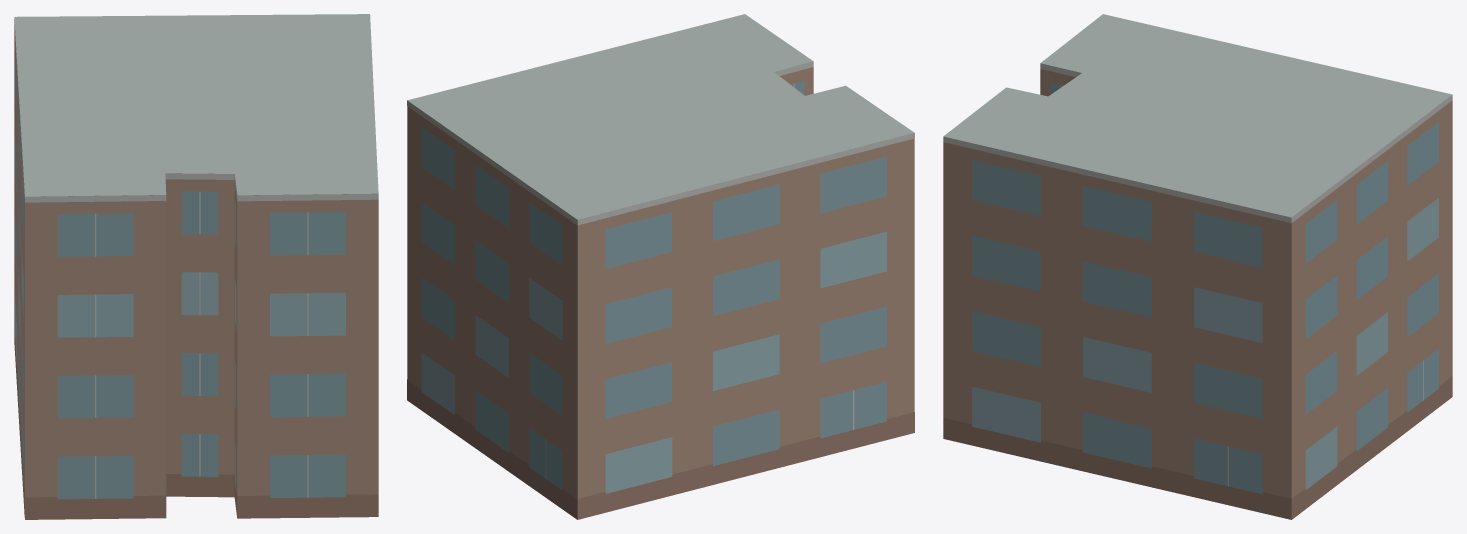
The model's file is survey-upis-32870629.glb.
3 renders of one model, left to right at view 1: azimuth 30°, elevation 25°; view 2: azimuth 150°, elevation 25°; view 3: azimuth 270°, elevation 25°, orthographic. The views are drawn at different scales.
Parts seen in each view (by area): view 1: survey-upis-32870629.tmp; view 2: survey-upis-32870629.tmp; view 3: survey-upis-32870629.tmp.
Boxes of the visible parts, x1,y1,x2,y2 form: survey-upis-32870629.tmp: [14, 14, 378, 519]; survey-upis-32870629.tmp: [407, 14, 914, 519]; survey-upis-32870629.tmp: [943, 14, 1452, 519].
Bounding box in the file's own units: 18.93 × 13.1 × 20.02.
